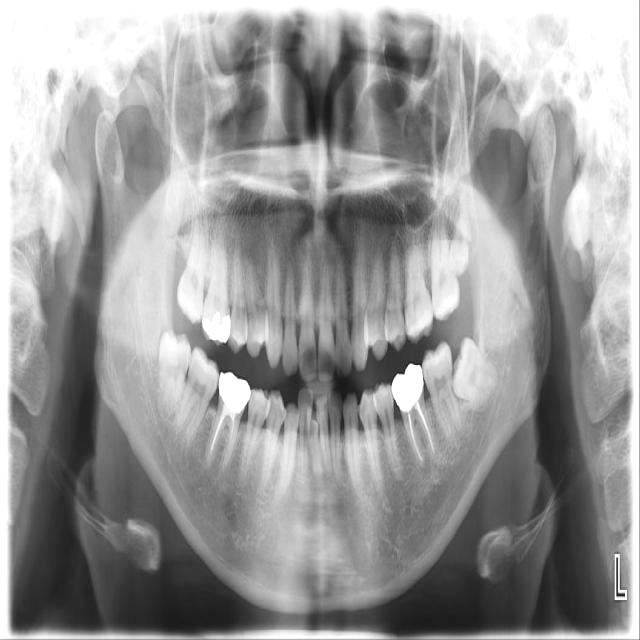Crown: (218, 372, 251, 421), (392, 363, 424, 413)
Filling: (204, 308, 231, 342)
Periapical lesion: (158, 412, 176, 438), (418, 451, 431, 473)
Root Canal Treatment: (415, 401, 435, 452), (407, 411, 423, 461), (210, 411, 227, 456), (229, 416, 235, 454)
impacted tooth: (453, 341, 497, 412), (157, 332, 190, 417), (448, 173, 472, 269)
